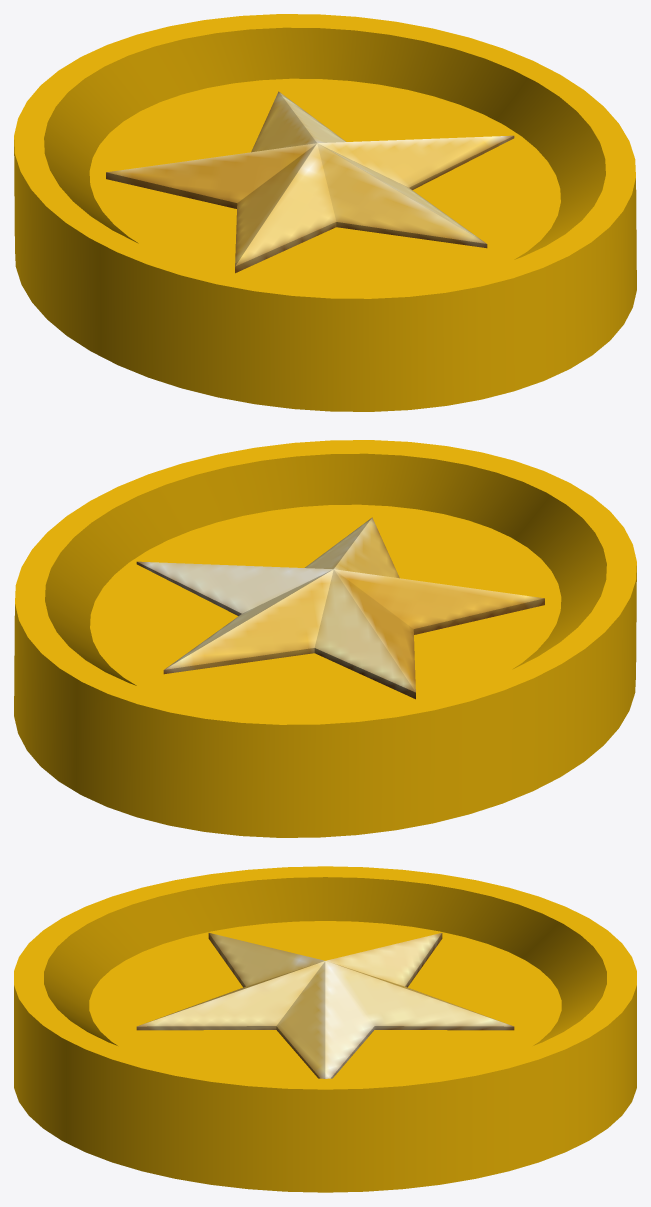
The model's file is GoldCoin.fbx.
3 renders of one model, top to bottom at view 1: azimuth 30°, elevation 25°; view 2: azimuth 150°, elevation 25°; view 3: azimuth 270°, elevation 25°, orthographic. The views are drawn at different scales.
Visible parts, largest first — view 1: pCube2, pCylinder8; view 2: pCube2, pCylinder8; view 3: pCube2, pCylinder8.
Boxes of the visible parts, x1,y1,x2,y2 form: pCube2: (14,14,636,411); pCylinder8: (106,91,514,273); pCube2: (14,440,636,837); pCylinder8: (136,517,544,699); pCube2: (14,866,636,1192); pCylinder8: (136,933,514,1078).
Bounding box in the file's own units: 2.73 × 0.6619 × 3.14.
